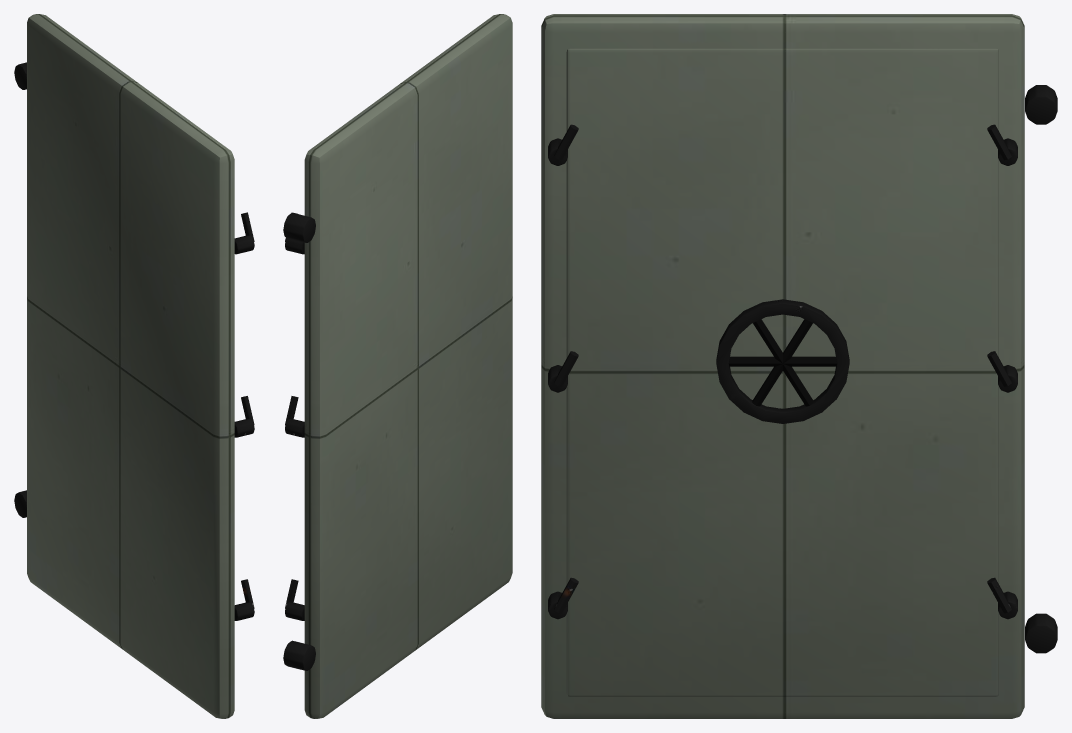
The model's file is door.glb.
3 views of the same model, side by side, from view 1: azimuth 30°, elevation 25°; view 2: azimuth 150°, elevation 25°; view 3: azimuth 270°, elevation 25° (orthographic). The views are drawn at different scales.
Parts seen in each view (by area): view 1: boat_bulk, boat_iron; view 2: boat_bulk, boat_iron; view 3: boat_bulk, boat_iron.
Boxes of the visible parts, x1,y1,x2,y2 form: boat_bulk: [27, 14, 234, 718]; boat_iron: [14, 62, 254, 620]; boat_bulk: [304, 14, 512, 718]; boat_iron: [283, 212, 315, 670]; boat_bulk: [541, 14, 1024, 718]; boat_iron: [548, 85, 1057, 653].
Size of the model in its own units: 0.147 by 1.86 by 1.24.
2 materials, 2 textured.
